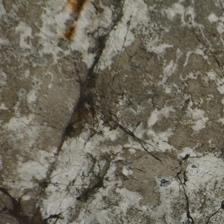Crack: (58, 102, 192, 224), (42, 14, 103, 80)
